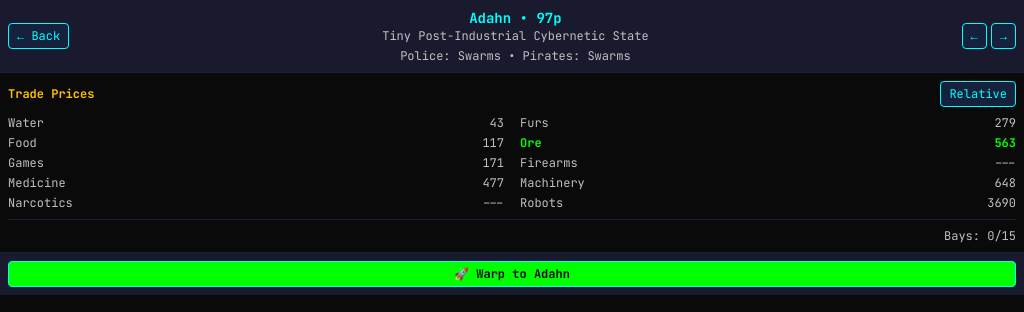
Test: DestinationScreen › System Navigation › should navigate to next system within range
The width and height of the screenshot is (1024, 312).
Click the button with test id "next-system-button". click: click(1003, 36)
box: [991,23,1016,49]
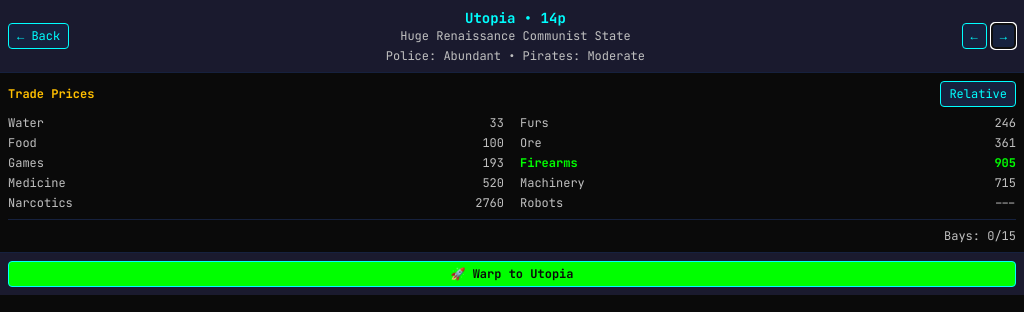
Expected: the text with test id "system-name" no longer shows "Adahn", [465,9,566,27]
